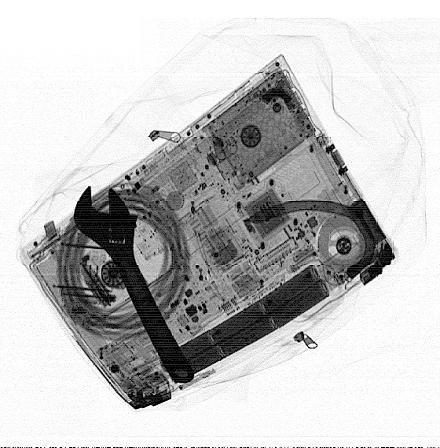Wrench: (72, 184, 196, 386)
